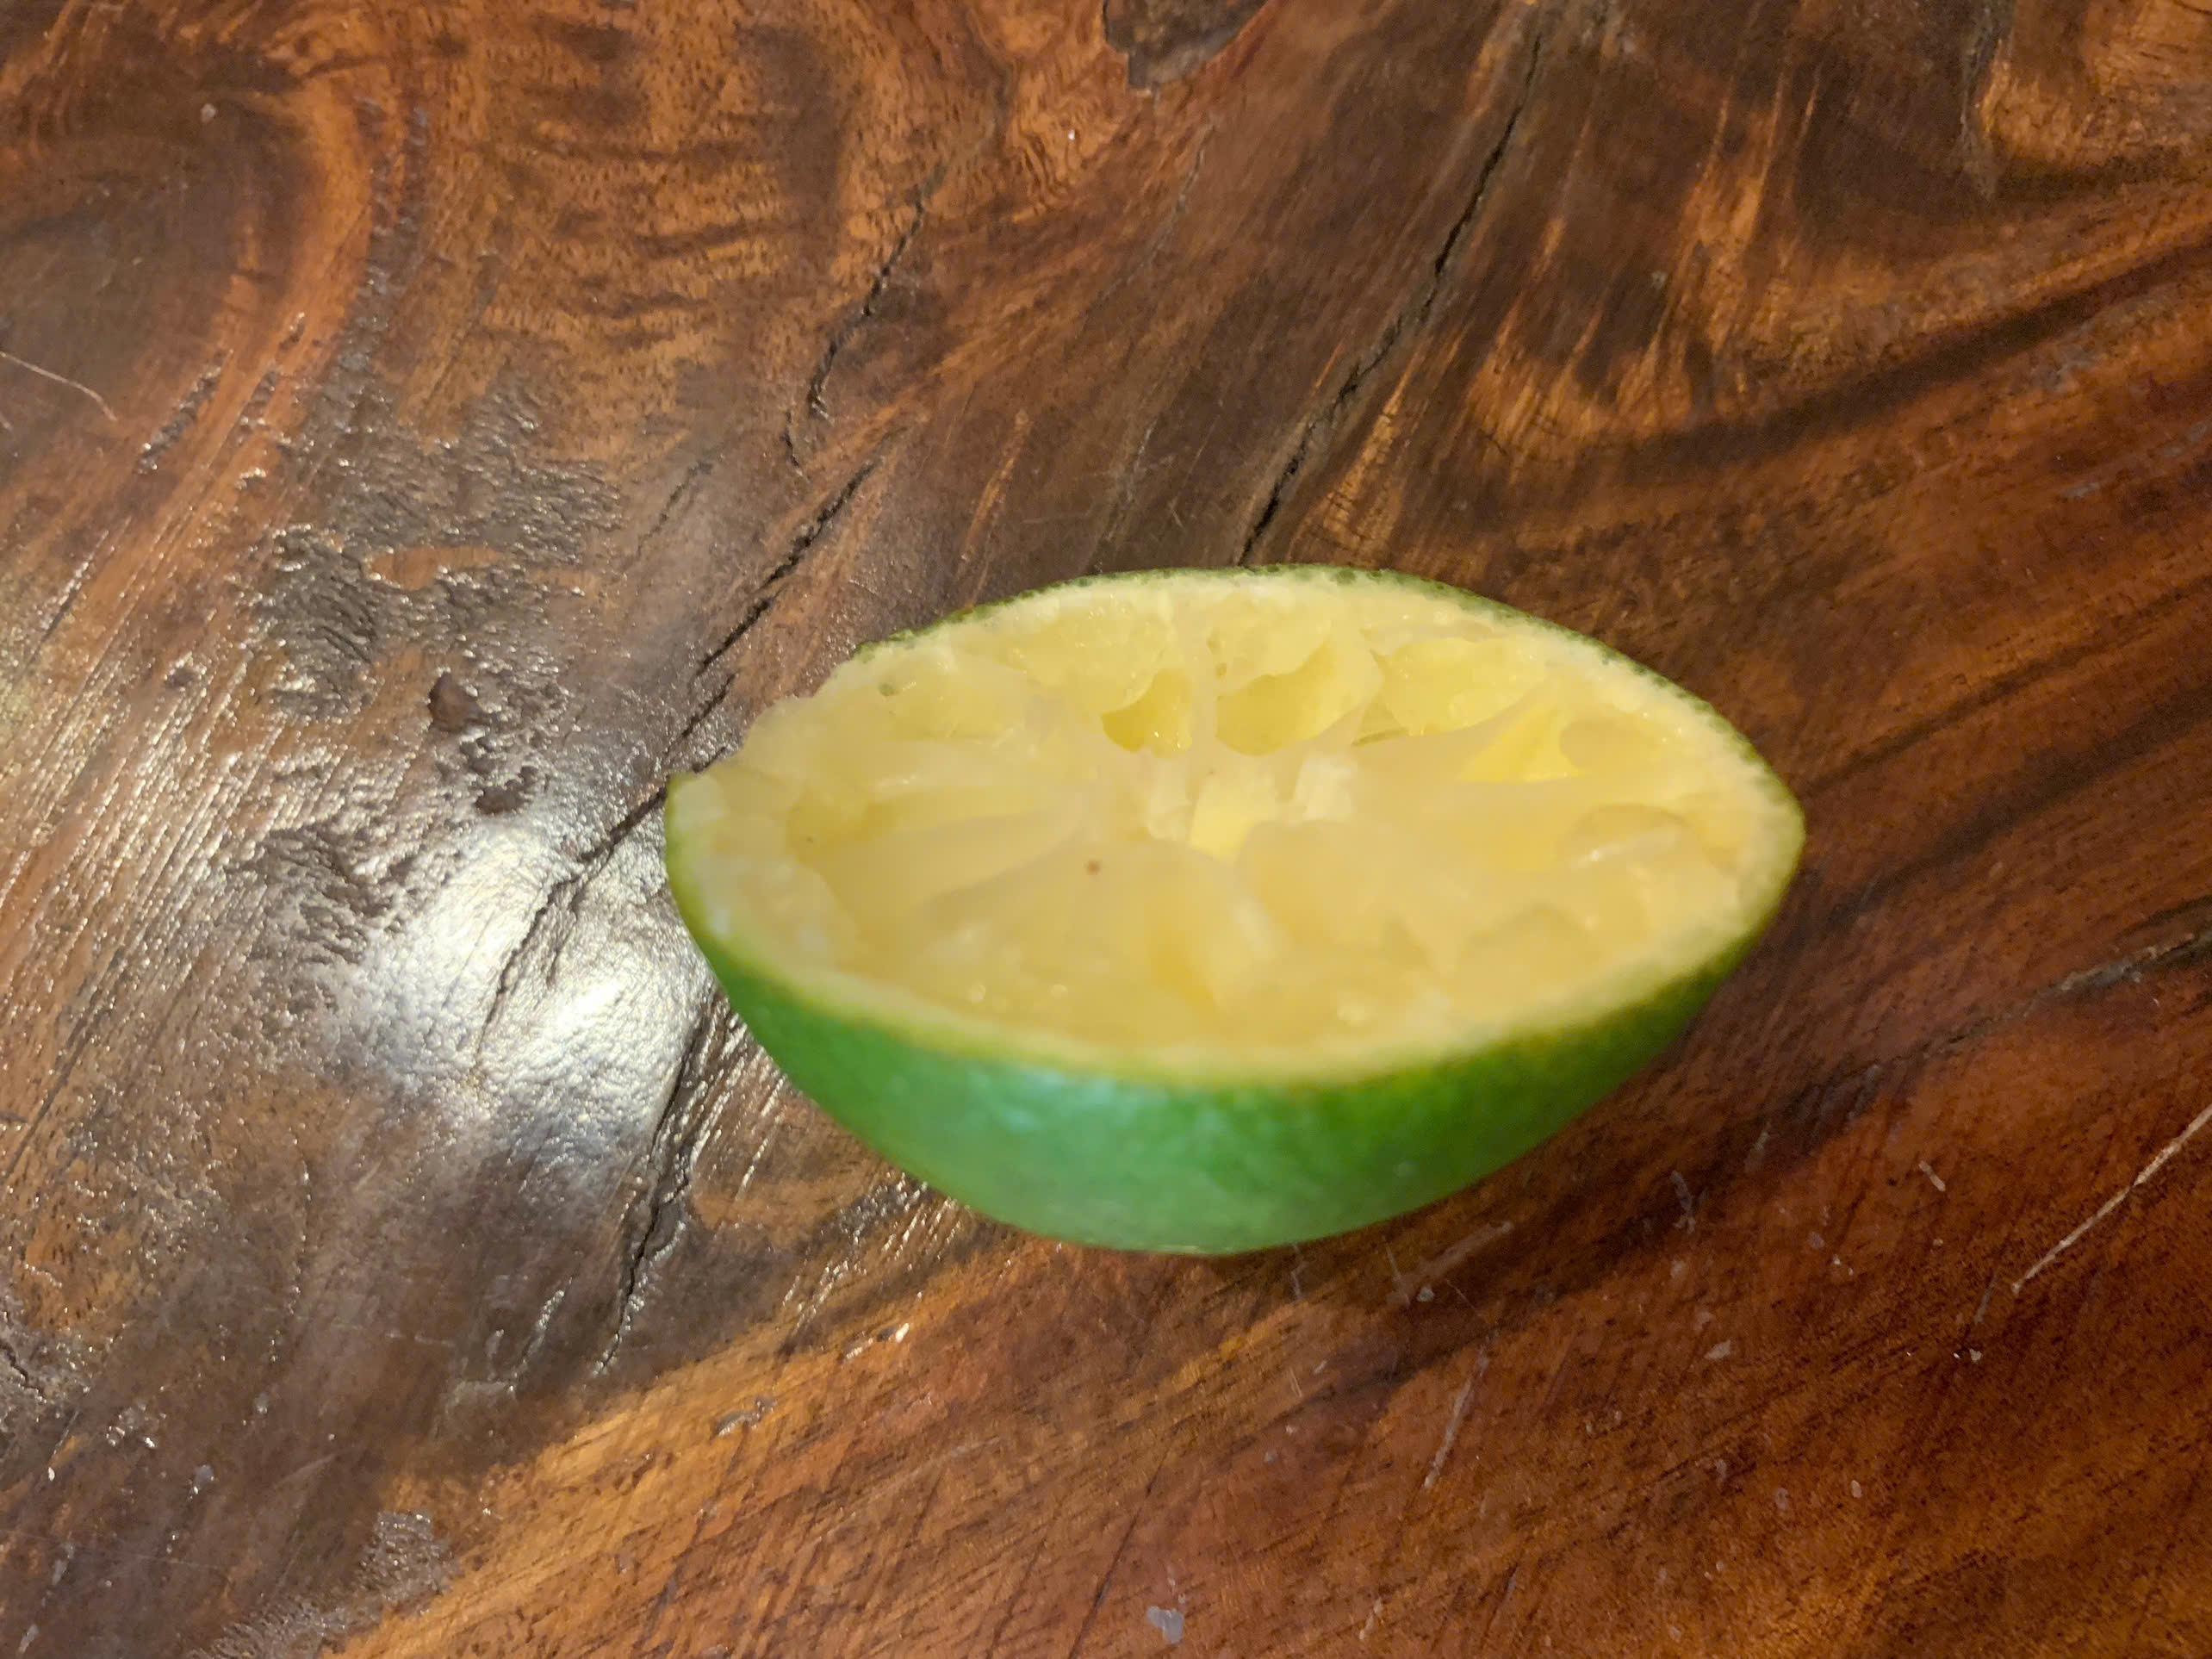Huu co: (669, 579, 1808, 1251)
